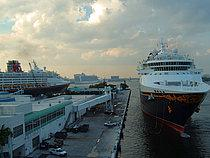Ship: (132, 35, 210, 134)
